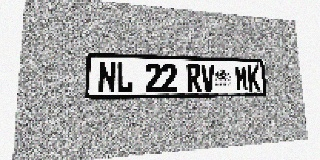2: (146, 63, 162, 92), (162, 63, 177, 92)
K: (247, 66, 261, 91)
L: (116, 62, 133, 93)
M: (235, 65, 249, 91)
N: (98, 62, 116, 93)
R: (187, 64, 201, 92)
V: (201, 64, 215, 92)
